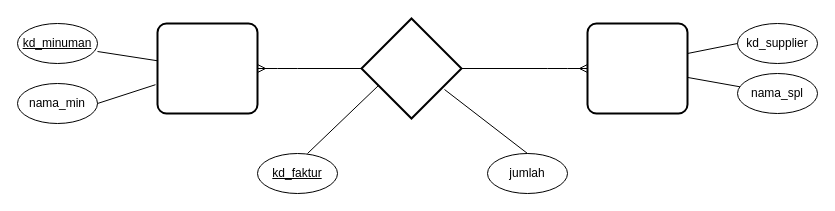
This 835x211 diagram has some shape labels left out. The shapes that lost their labels are listed below. From the top down, each one's centre as x and y in pixels, then its label:
At pixel 207 68: "Minuman".
At pixel 411 68: "Pembelian".
At pixel 637 68: "Supplier".
